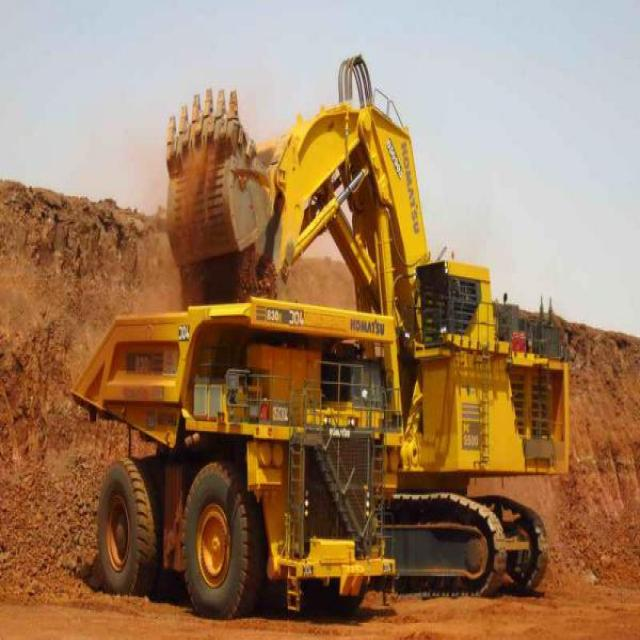dump_truck: (63, 282, 400, 613)
excavator: (160, 51, 580, 595)
